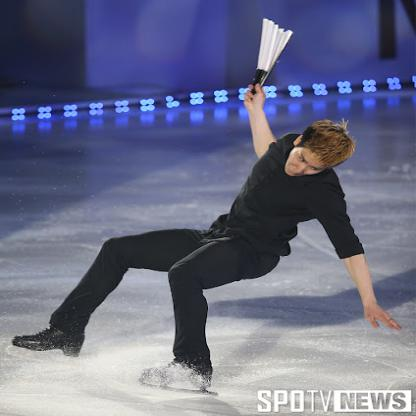Fall_Down: (11, 82, 402, 391)
